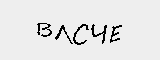В: (32, 20, 53, 40)
Е: (110, 20, 125, 46)
Л: (54, 24, 73, 46)
С: (72, 23, 91, 47)
Ч: (88, 20, 109, 45)
